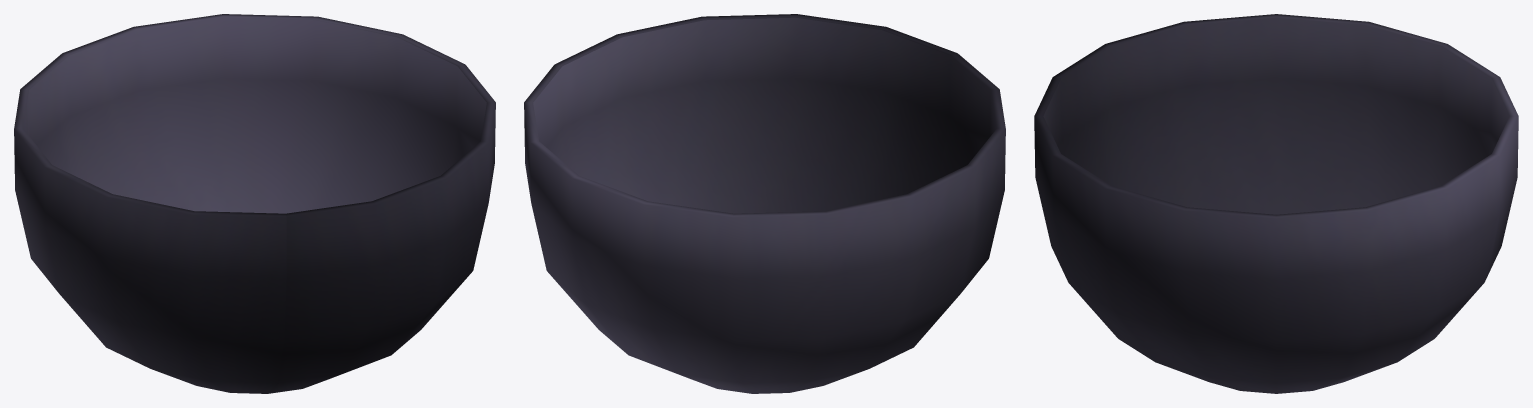
File: 믹싱볼.fbx
3 views of the same model, side by side, from view 1: azimuth 30°, elevation 25°; view 2: azimuth 150°, elevation 25°; view 3: azimuth 270°, elevation 25° (orthographic).
Visible parts, largest first — view 1: bowl; view 2: bowl; view 3: bowl.
Part boxes in pixels (bbox=[...]): bowl: bbox=[14, 14, 495, 393]; bowl: bbox=[524, 14, 1005, 393]; bowl: bbox=[1034, 14, 1518, 393].
Bounding box in the file's own units: 106 × 57.36 × 106.
